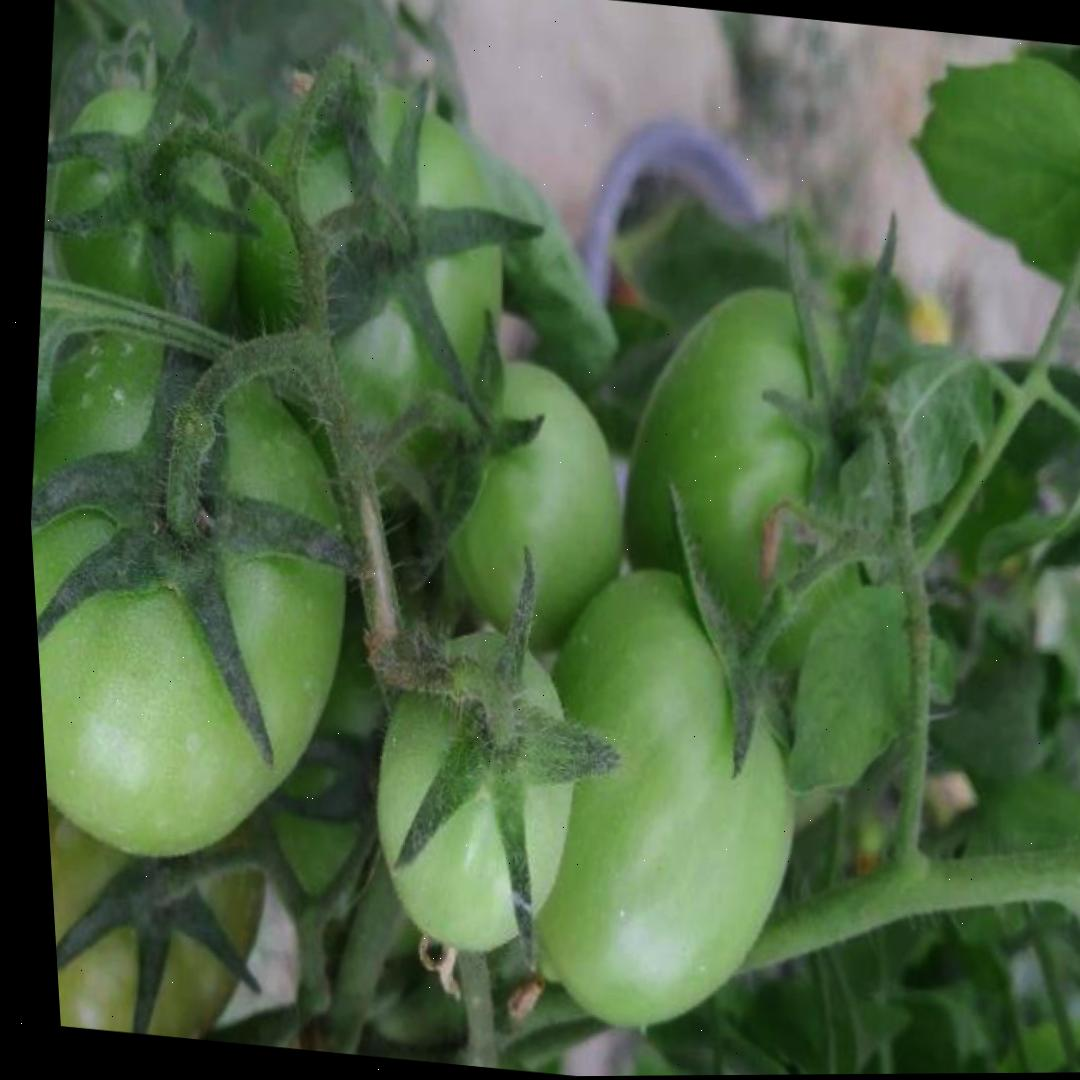mentah: (20, 335, 387, 878), (492, 552, 838, 1047), (350, 613, 604, 960), (411, 349, 650, 661)
